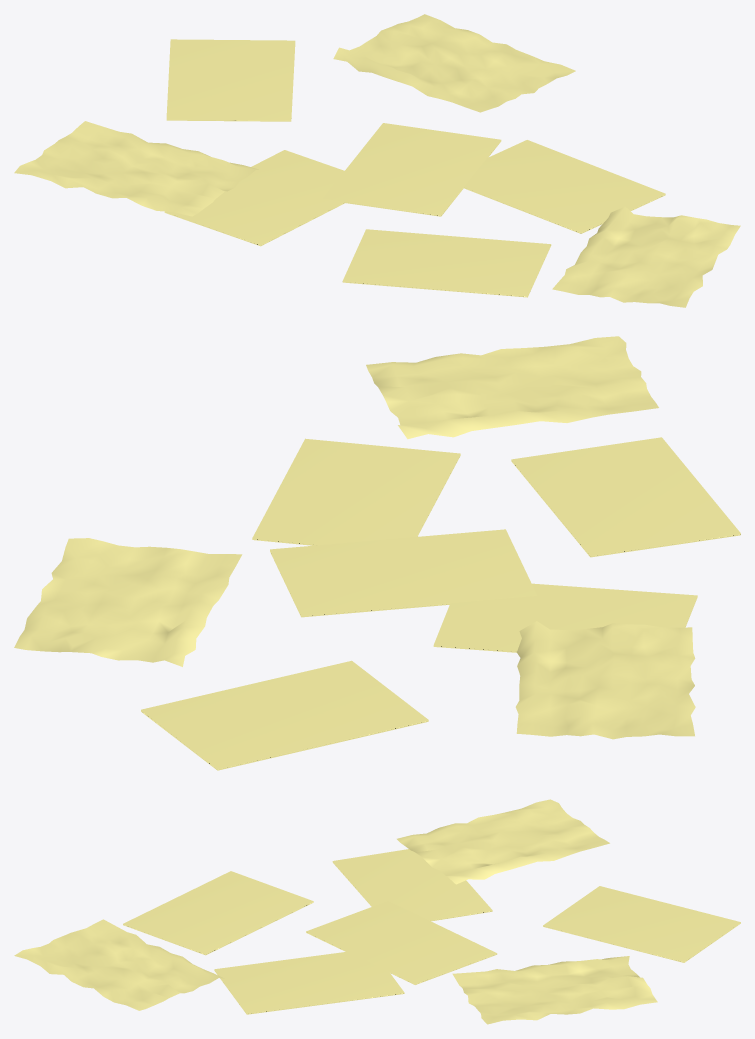
File: Papeis espalhados(mesa).fbx
The picture shows the model from 3 angles, top to bottom: view 1: azimuth 30°, elevation 25°; view 2: azimuth 150°, elevation 25°; view 3: azimuth 270°, elevation 25°; orthographic projection. The views are drawn at different scales.
Visible parts, largest first — view 1: Papeis espalhados; view 2: Papeis espalhados; view 3: Papeis espalhados.
Boxes of the visible parts, <box> form: Papeis espalhados: <box>14,14,740,307</box>; Papeis espalhados: <box>14,336,740,770</box>; Papeis espalhados: <box>14,799,740,1024</box>.
Size of the model in its own units: 81.74 by 2.65 by 112.
